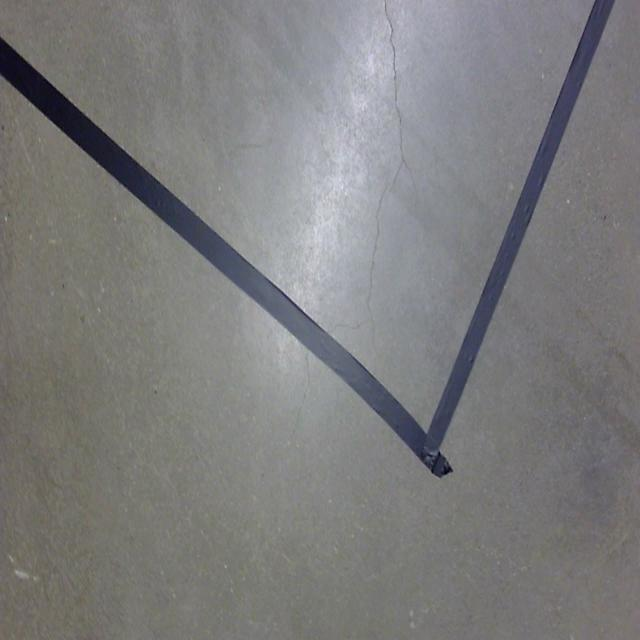tape: (426, 1, 618, 469)
